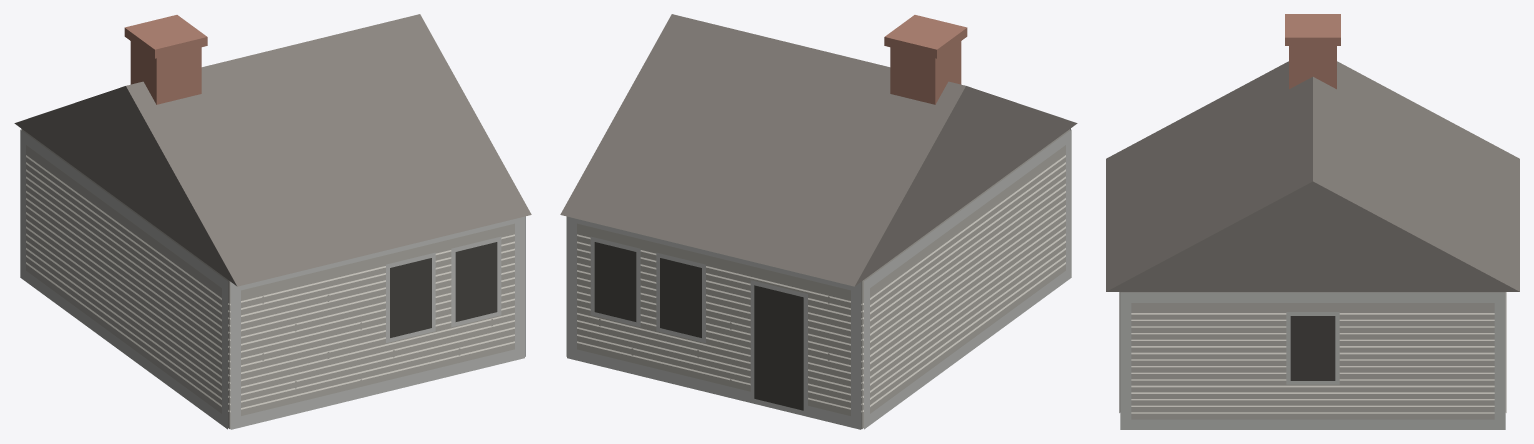
The model's file is recon_1835_west_042__inferred_1835.glb.
3 views of the same model, side by side, from view 1: azimuth 30°, elevation 25°; view 2: azimuth 150°, elevation 25°; view 3: azimuth 270°, elevation 25° (orthographic). The views are drawn at different scales.
Visible parts, largest first — view 1: recon_1835_west_042__inferred_1835; view 2: recon_1835_west_042__inferred_1835; view 3: recon_1835_west_042__inferred_1835.
Part boxes in pixels (x1,y1,x2,y2): recon_1835_west_042__inferred_1835: [14, 14, 531, 429]; recon_1835_west_042__inferred_1835: [560, 14, 1077, 429]; recon_1835_west_042__inferred_1835: [1106, 14, 1519, 429].
Size of the model in its own units: 5.57 by 5.54 by 7.21.
